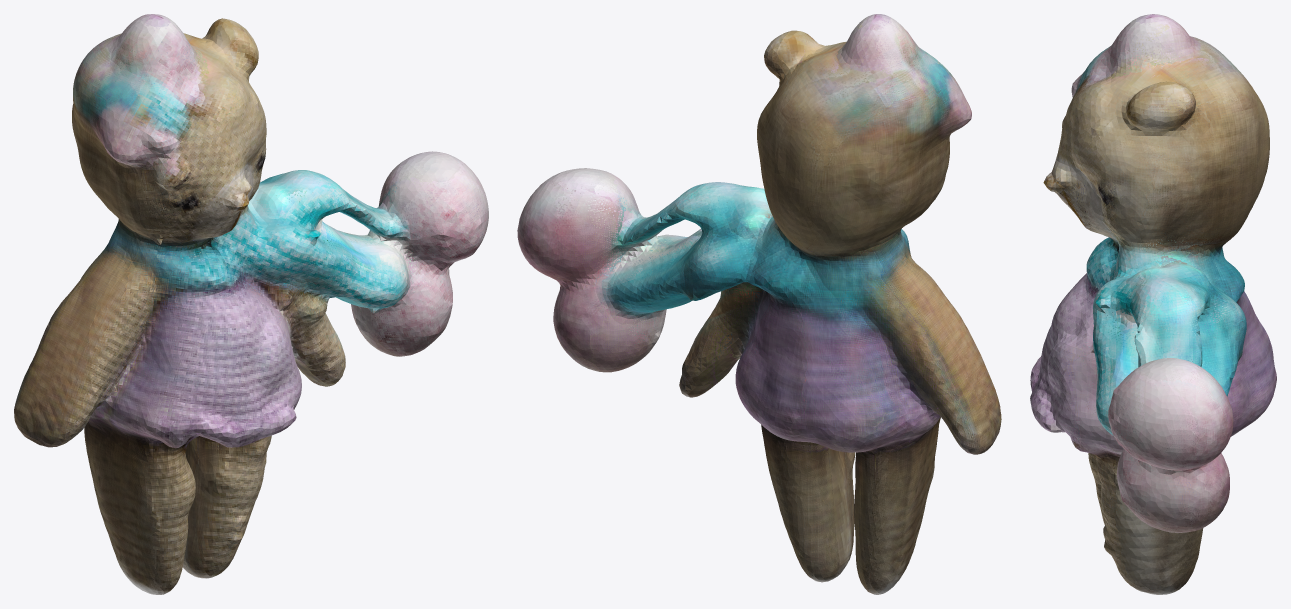
The model's file is toy.glb.
The picture shows the model from 3 angles, left to right: view 1: azimuth 30°, elevation 25°; view 2: azimuth 150°, elevation 25°; view 3: azimuth 270°, elevation 25°; orthographic projection. The views are drawn at different scales.
Bounding box in the file's own units: 1.51 × 1.8 × 0.7229.
Materials: 1 (1 with a texture image).
